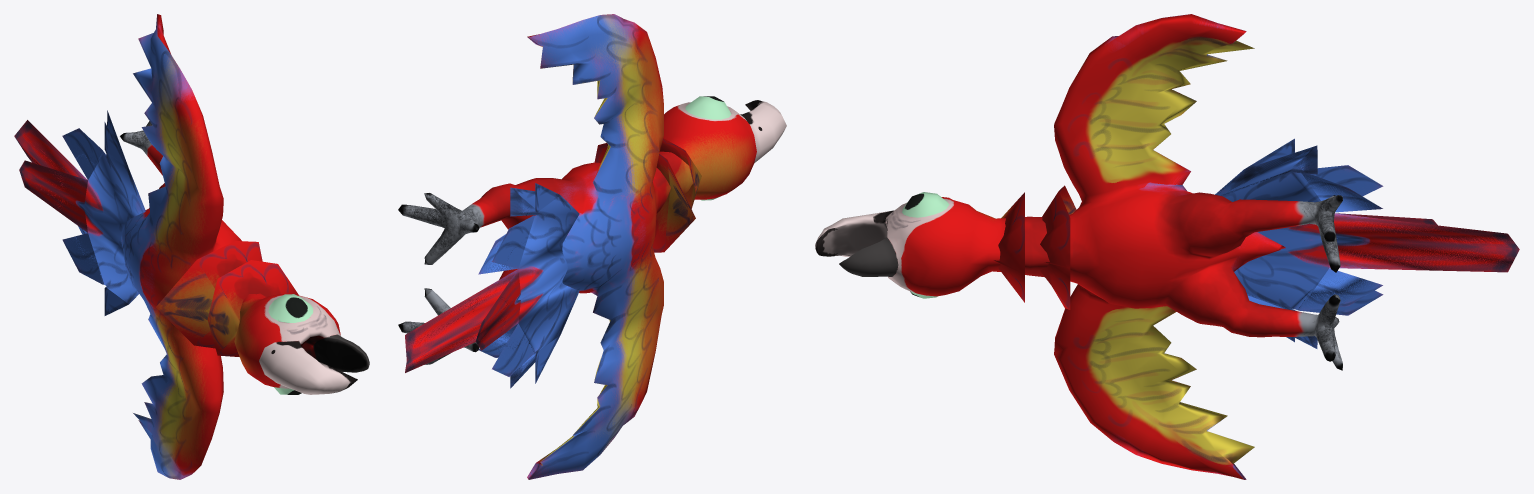
File: SM_PirateProjectile.fbx
3 views of the same model, side by side, from view 1: azimuth 30°, elevation 25°; view 2: azimuth 150°, elevation 25°; view 3: azimuth 270°, elevation 25° (orthographic). The views are drawn at different scales.
Parts seen in each view (by area): view 1: SM_PirateProjectile; view 2: SM_PirateProjectile; view 3: SM_PirateProjectile.
Part boxes in pixels (<box>): SM_PirateProjectile: <box>14,14,369,479</box>; SM_PirateProjectile: <box>398,14,786,479</box>; SM_PirateProjectile: <box>815,14,1519,479</box>.
Size of the model in its own units: 5.98 by 20.76 by 14.83.
1 material, 1 textured.
